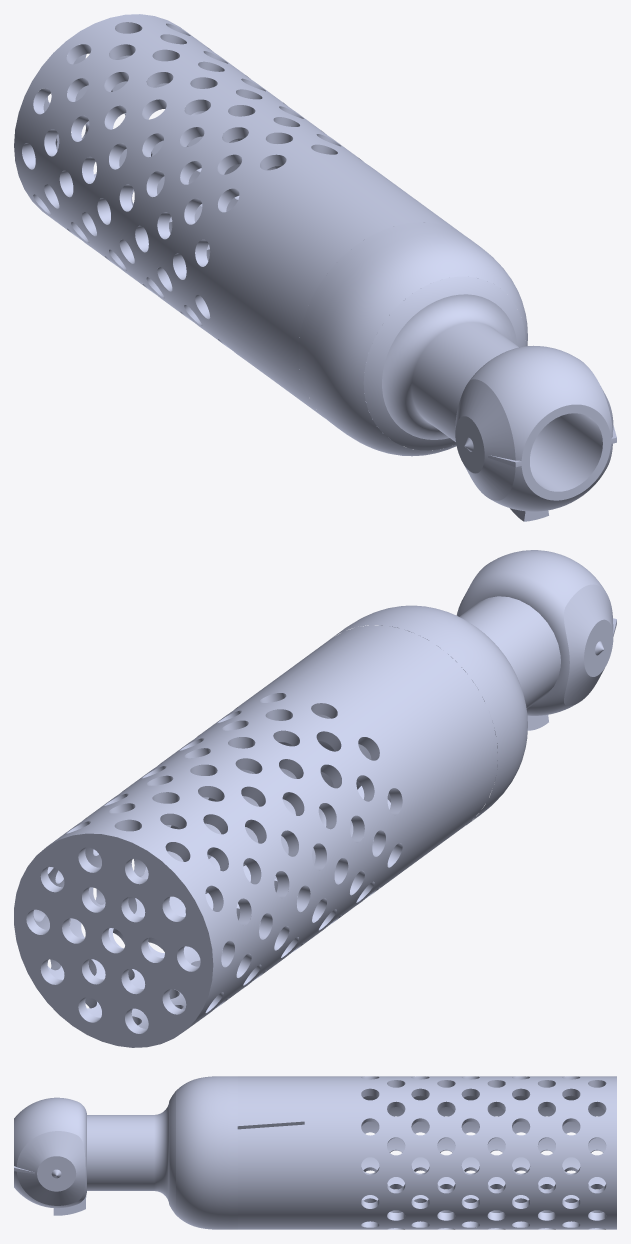
File: filter.glb
3 renders of one model, top to bottom at view 1: azimuth 30°, elevation 25°; view 2: azimuth 150°, elevation 25°; view 3: azimuth 270°, elevation 25°, orthographic. The views are drawn at different scales.
Parts seen in each view (by area): view 1: Hayward_filter_V4; view 2: Hayward_filter_V4; view 3: Hayward_filter_V4.
Boxes of the visible parts, x1=… form: Hayward_filter_V4: x1=14, y1=14, x2=616, y2=521; Hayward_filter_V4: x1=14, y1=550, x2=616, y2=1047; Hayward_filter_V4: x1=14, y1=1076, x2=616, y2=1229.
Bounding box in the file's own units: 0.0505 × 0.0505 × 0.198.
